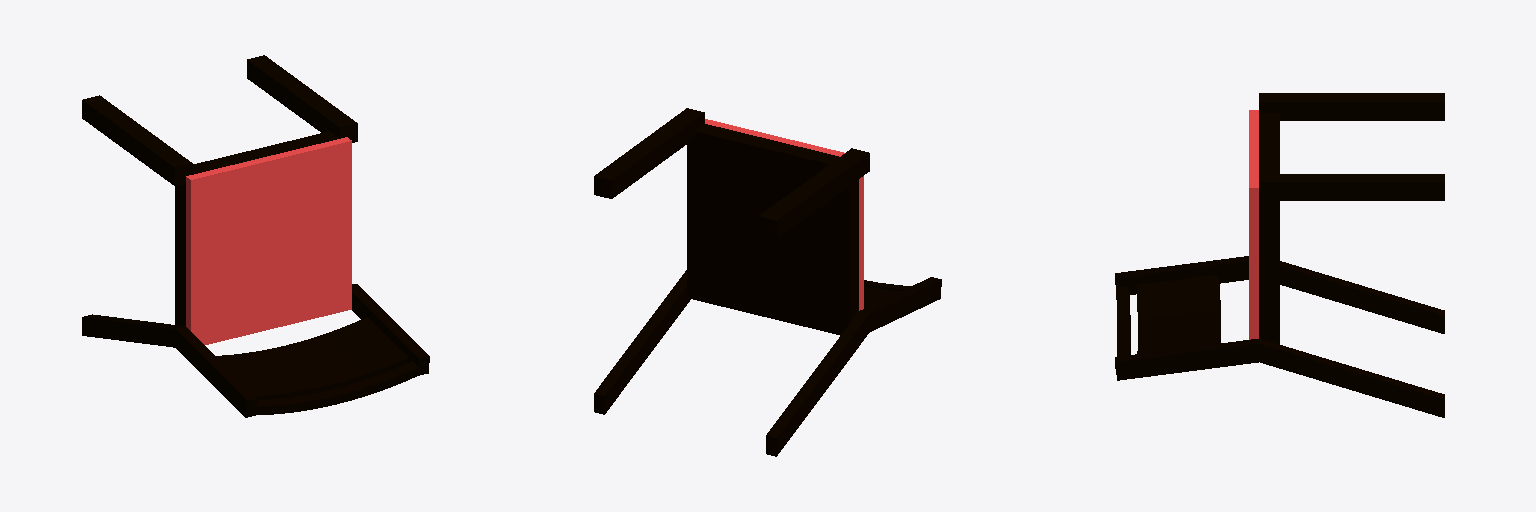
File: cat5_chair.obj
3 renders of one model, left to right at view 1: azimuth 30°, elevation 25°; view 2: azimuth 150°, elevation 25°; view 3: azimuth 270°, elevation 25°, orthographic.
Parts seen in each view (by area): view 1: Group#7, Group#4, Group#2 2, Group#3, Group#3 2, Group#1, Group#8, Group#2; view 2: Group#1, Group#2 2, Group#3, Group#3 2, Group#2, Group#7; view 3: Group#2, Group#2 2, Group#4, Group#3, Group#3 2, Group#1, Group#7, Group#8.
Boxes of the visible parts, x1,y1,x2,y2 form: Group#7: [186, 137, 351, 344]; Group#4: [216, 317, 407, 399]; Group#2 2: [82, 314, 257, 417]; Group#3: [82, 95, 192, 185]; Group#3 2: [247, 55, 357, 142]; Group#1: [175, 131, 338, 325]; Group#8: [257, 361, 418, 414]; Group#2: [352, 284, 429, 375]; Group#1: [687, 124, 858, 335]; Group#2 2: [766, 277, 941, 456]; Group#3: [759, 148, 869, 238]; Group#3 2: [594, 108, 704, 198]; Group#2: [594, 270, 690, 414]; Group#7: [705, 119, 863, 310]; Group#2: [1115, 338, 1444, 417]; Group#2 2: [1115, 256, 1444, 333]; Group#4: [1136, 275, 1220, 353]; Group#3: [1259, 93, 1444, 120]; Group#3 2: [1259, 174, 1444, 200]; Group#1: [1259, 113, 1279, 344]; Group#7: [1249, 110, 1258, 339]; Group#8: [1116, 286, 1130, 356].
Bounding box in the file's own units: 51 × 63 × 80.